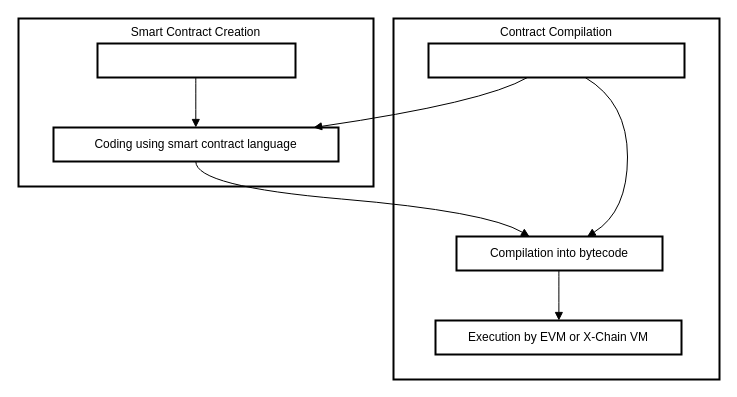
Image size: 737x397. Some labels were removed from this diagram. The centre of each missing label's shape, as x and y in pixels:
Automated using Remix or Truffle: the point at 556,60
Design contract structure: the point at 196,60
